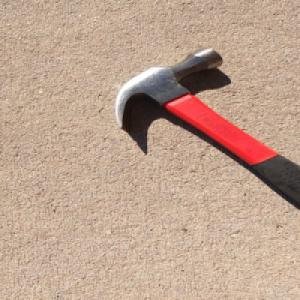Hammer: (112, 44, 300, 213)
